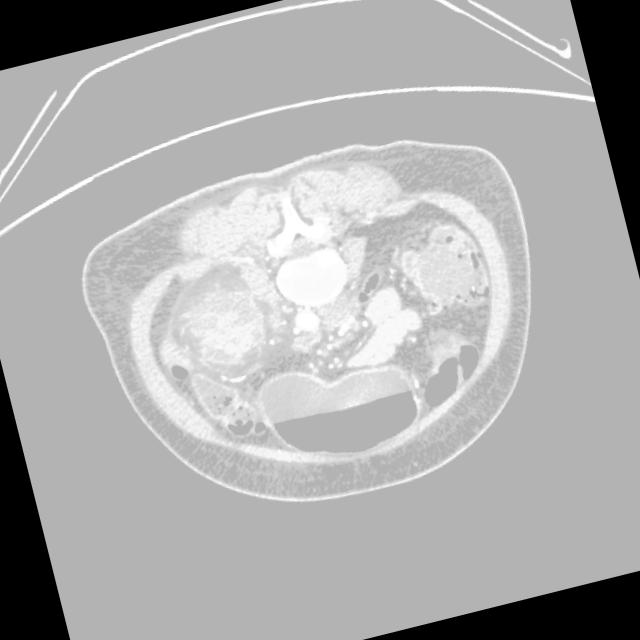TUMOR: (119, 189, 551, 442)
